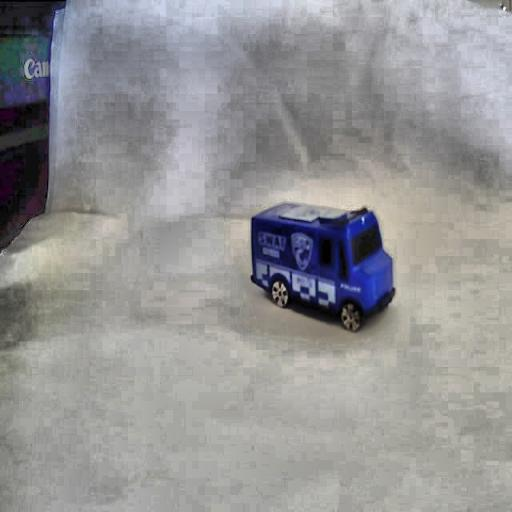police car: (248, 194, 399, 332)
